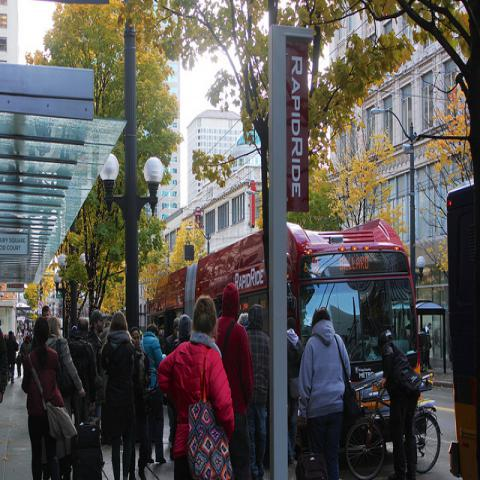bus: (152, 216, 430, 463)
